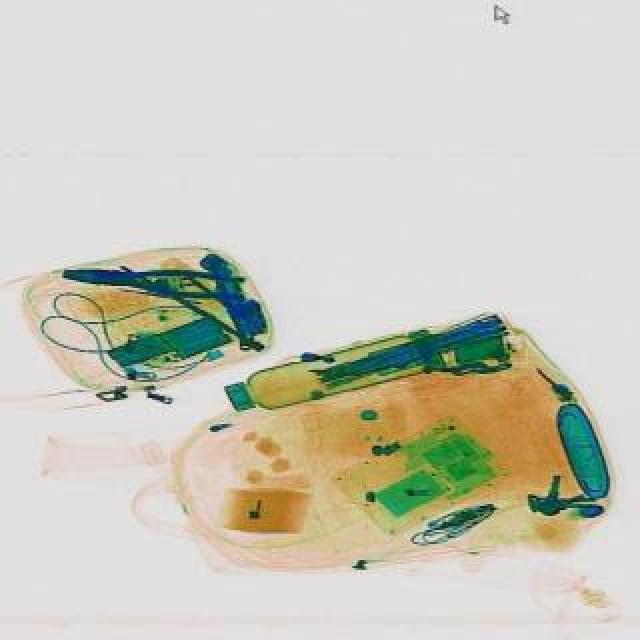wrench: (60, 260, 244, 304)
